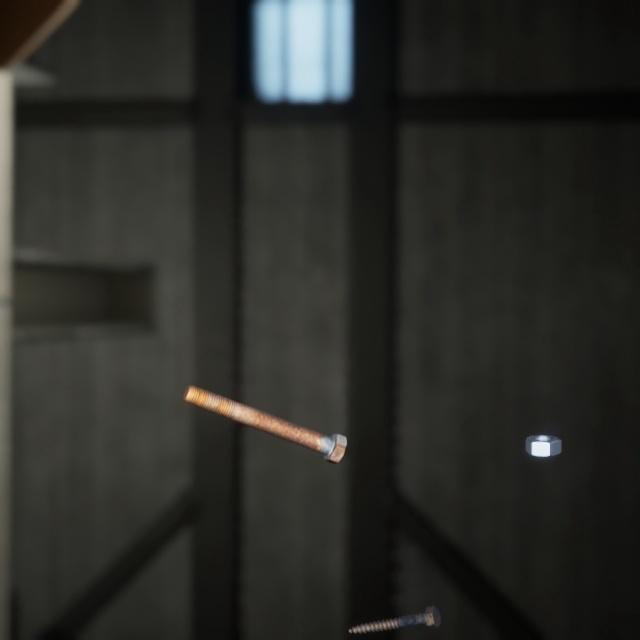bolt: (178, 360, 351, 447), (344, 578, 445, 615)
nut: (521, 410, 565, 441)
